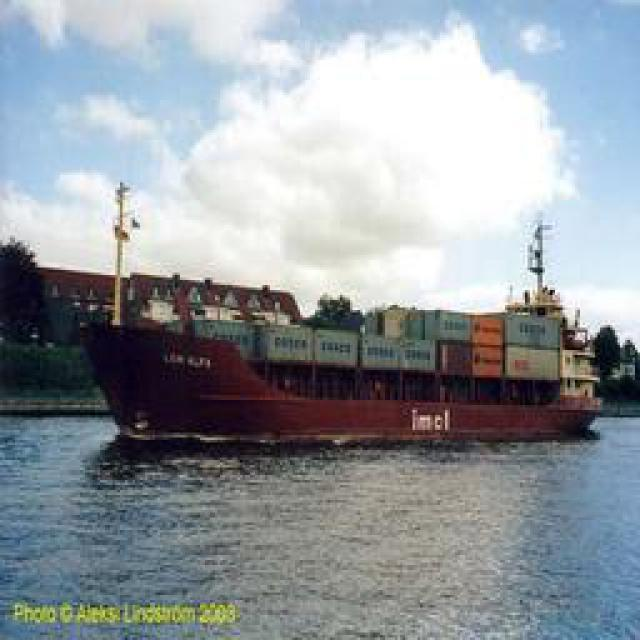Ship: (77, 256, 610, 451)
